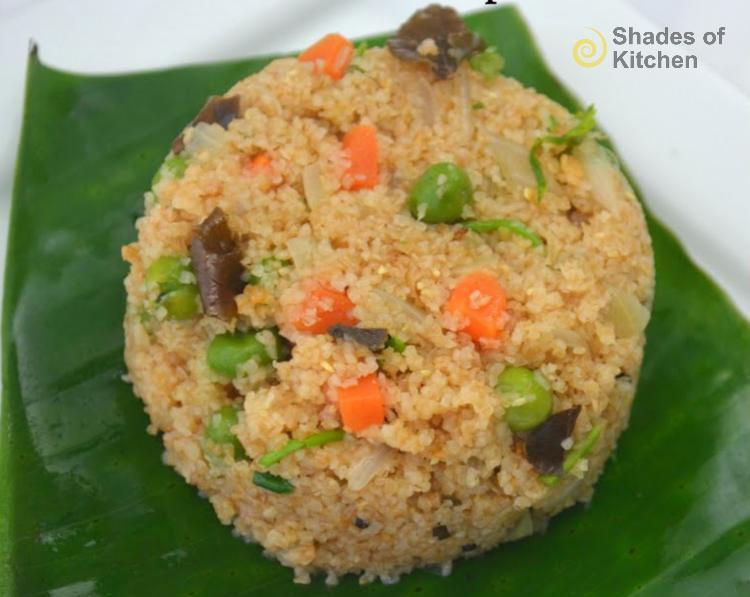upma: (124, 41, 653, 576)
